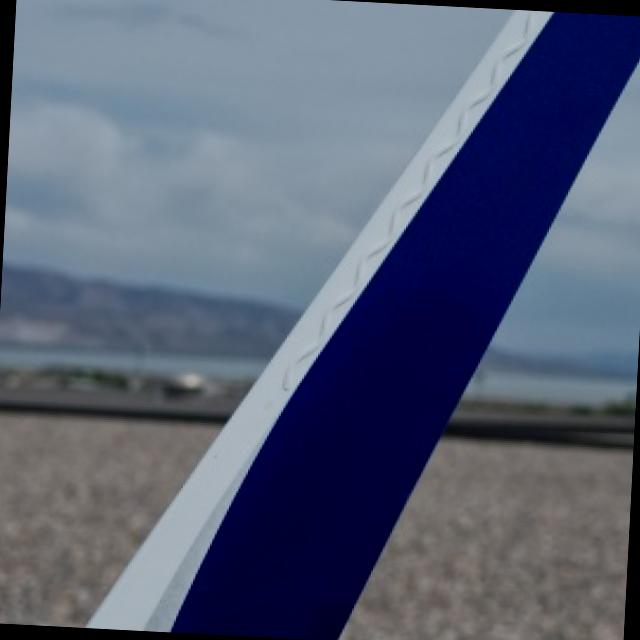healthy: (88, 10, 640, 639)
